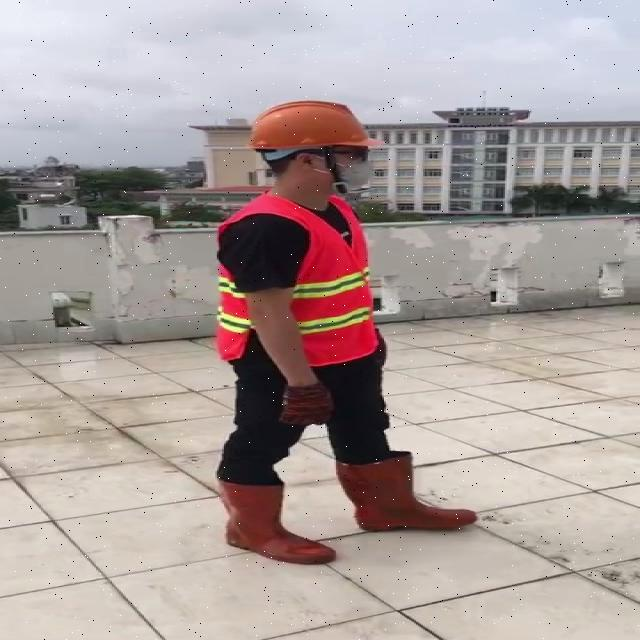Hard_hat: (241, 98, 381, 169)
Vest: (212, 193, 377, 374)
